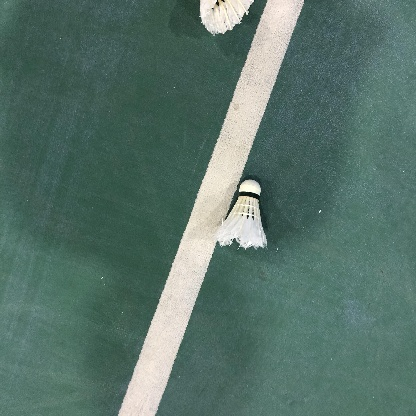ball_single: (216, 179, 267, 248), (200, 0, 254, 35)
